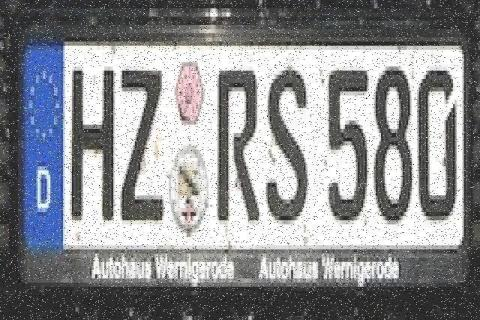LicensePlate: (13, 12, 476, 320)
